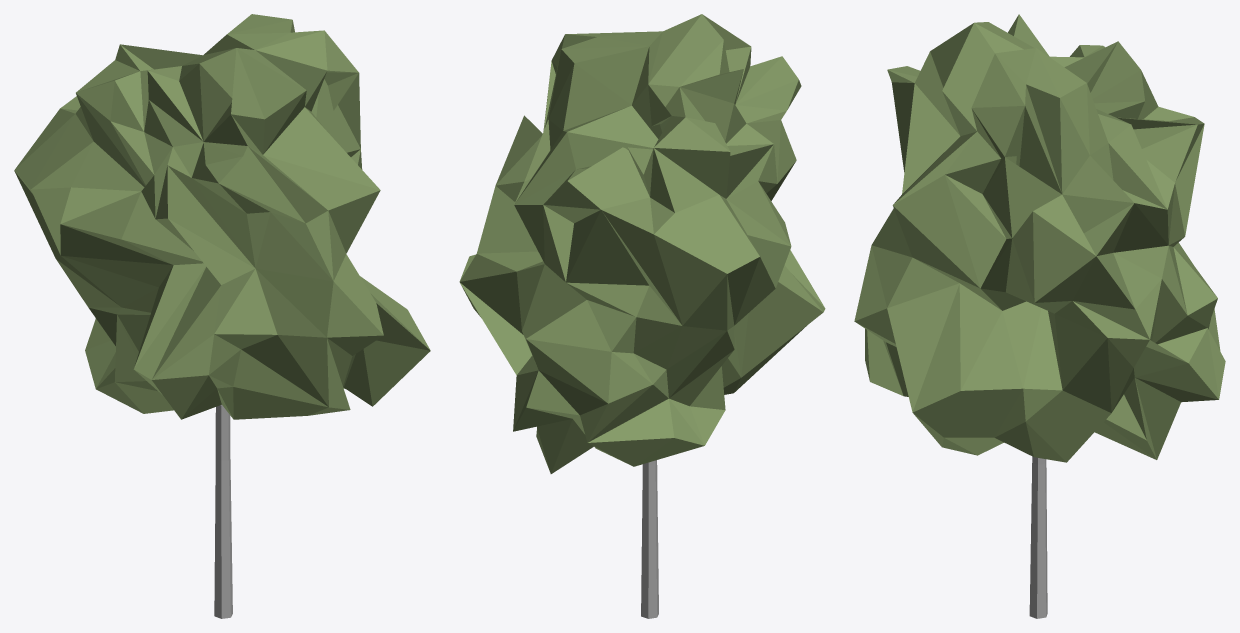
File: P_Tree_birch_8meters.FBX
3 views of the same model, side by side, from view 1: azimuth 30°, elevation 25°; view 2: azimuth 150°, elevation 25°; view 3: azimuth 270°, elevation 25° (orthographic). The views are drawn at different scales.
Visible parts, largest first — view 1: P_Tree_birch_8meters_LOD0; view 2: P_Tree_birch_8meters_LOD0; view 3: P_Tree_birch_8meters_LOD0.
Boxes of the visible parts, box(x1,y1,x2,y2) form: P_Tree_birch_8meters_LOD0: box(14, 14, 430, 618); P_Tree_birch_8meters_LOD0: box(459, 14, 825, 618); P_Tree_birch_8meters_LOD0: box(854, 14, 1225, 618).
Size of what is drawn, in the model's own units: 4.53 by 8.5 by 4.91.
